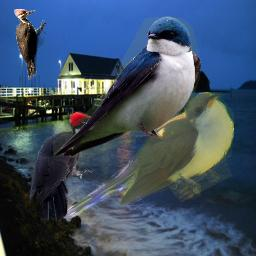Cuckoo: (57, 92, 234, 218)
Swallow: (53, 16, 201, 159)
Woodpecker: (25, 111, 118, 221), (14, 9, 46, 80)
